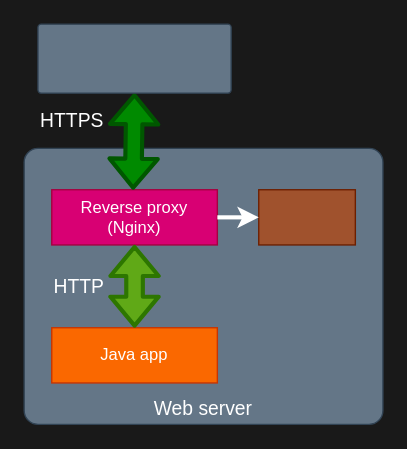
Some shapes in this 407 by 449 pixel diagram are drawn without their labels. Here are the shapes that lost their labels. From the top down, the box of each, then its label:
(37, 23, 231, 93): Alice or Bob's web browser
(257, 188, 355, 245): SSL/TLS certificate
